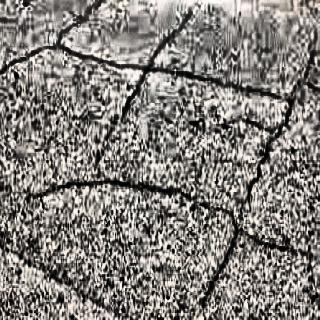crack: (39, 6, 198, 66), (242, 92, 294, 215), (26, 174, 206, 206), (194, 214, 236, 314), (101, 74, 145, 160), (148, 68, 253, 104), (241, 224, 317, 272), (0, 46, 65, 64)
